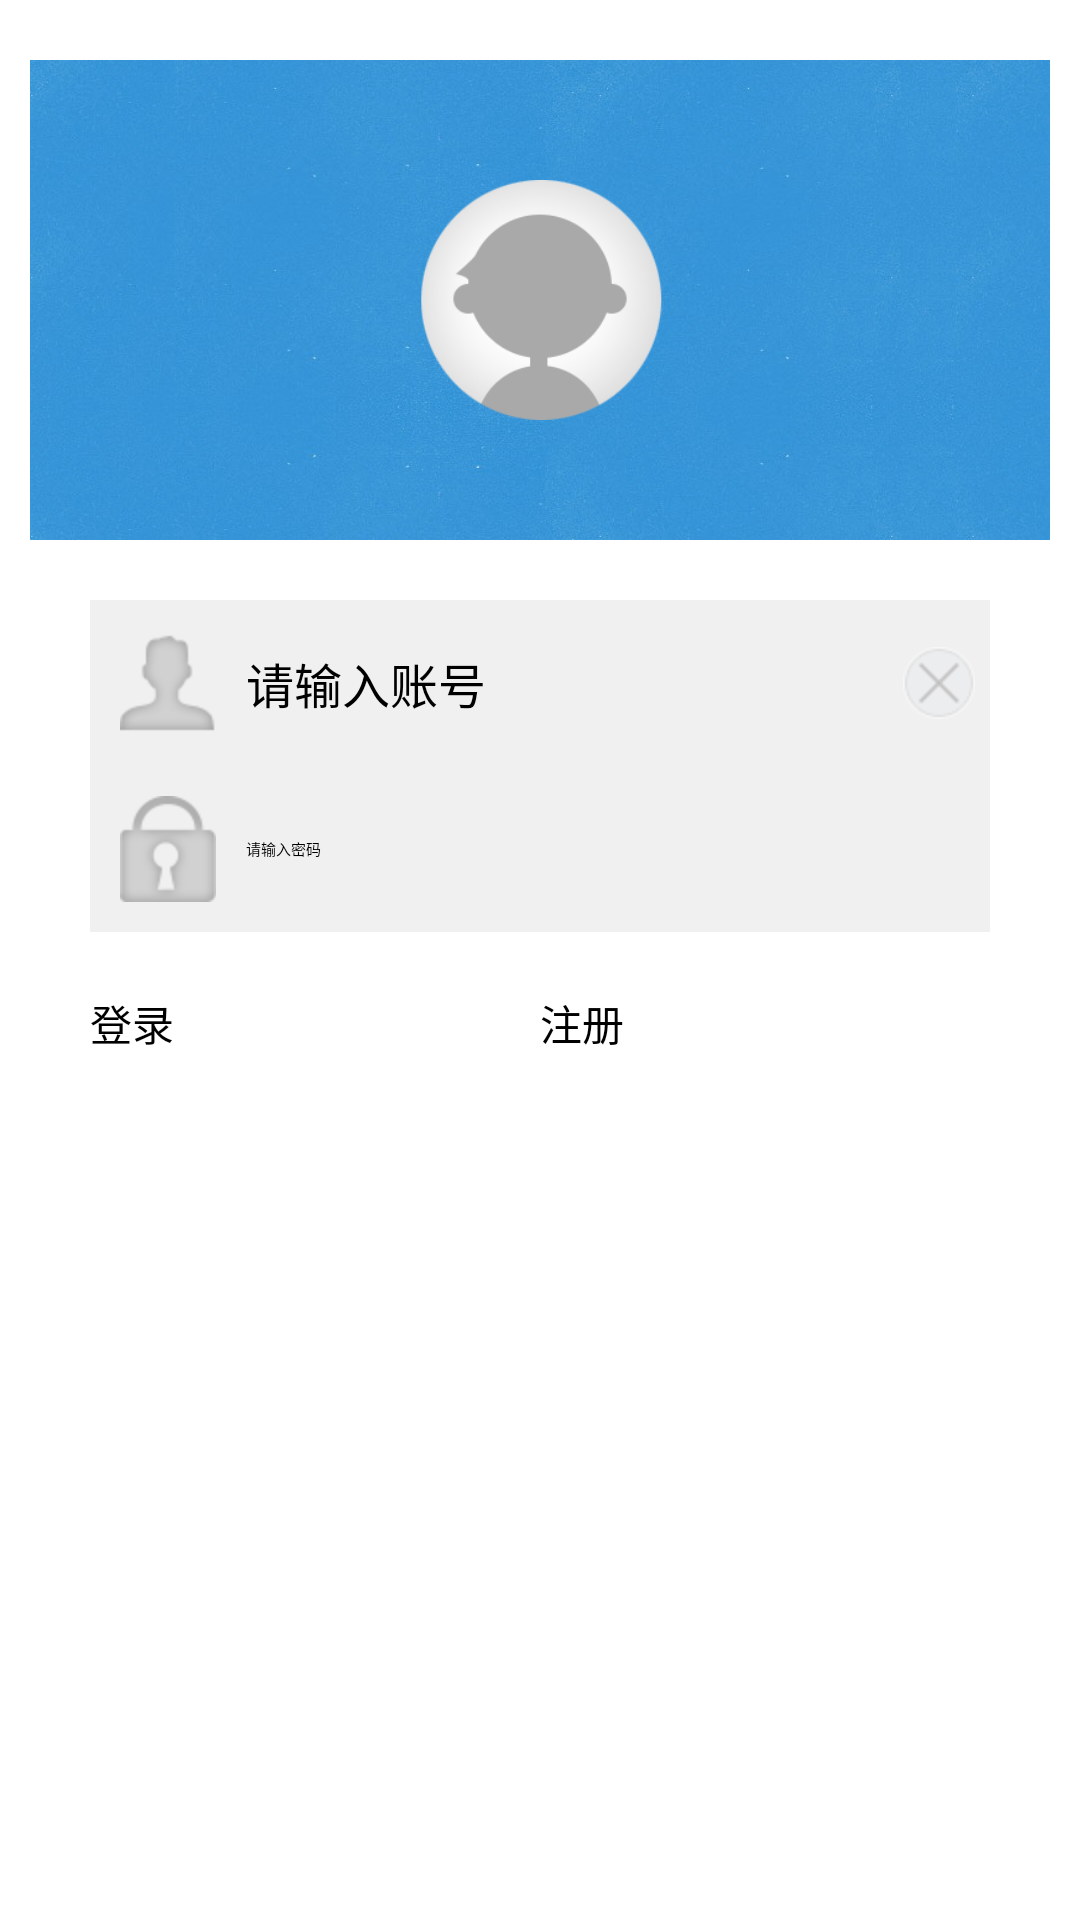

Screen size 1080px x 1920px. Icon name, then its center in pixels as [x,y]:
login password indicator: [168,849]
login username indicator: [167,683]
